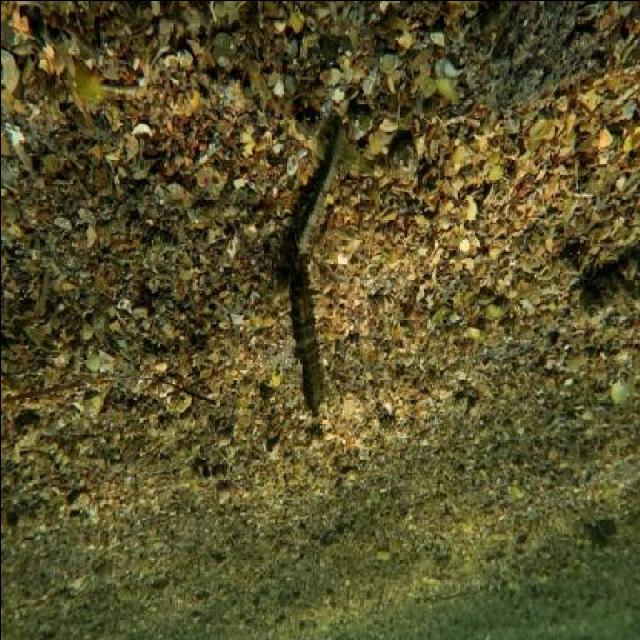Guttu: (281, 267, 332, 417)
